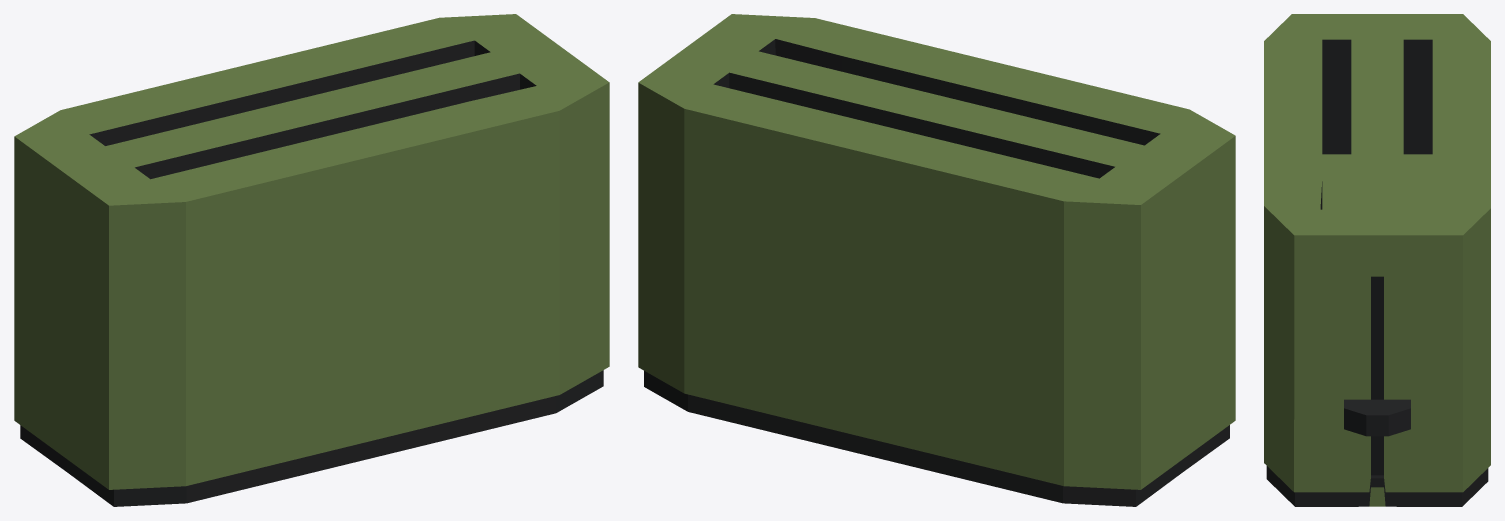
The model's file is toaster_01_B.gltf.
3 renders of one model, left to right at view 1: azimuth 30°, elevation 25°; view 2: azimuth 150°, elevation 25°; view 3: azimuth 270°, elevation 25°, orthographic. The views are drawn at different scales.
Visible parts, largest first — view 1: toaster_01_B; view 2: toaster_01_B; view 3: toaster_01_B, Switchfortoaster_01_B.
Boxes of the visible parts, <box> form: toaster_01_B: <box>14,14,609,506</box>; toaster_01_B: <box>638,14,1235,506</box>; toaster_01_B: <box>1264,14,1490,506</box>; Switchfortoaster_01_B: <box>1344,399,1410,436</box>.
Bounding box in the file's own units: 0.371 × 0.2 × 0.15.
Materials: 1 (1 with a texture image).
